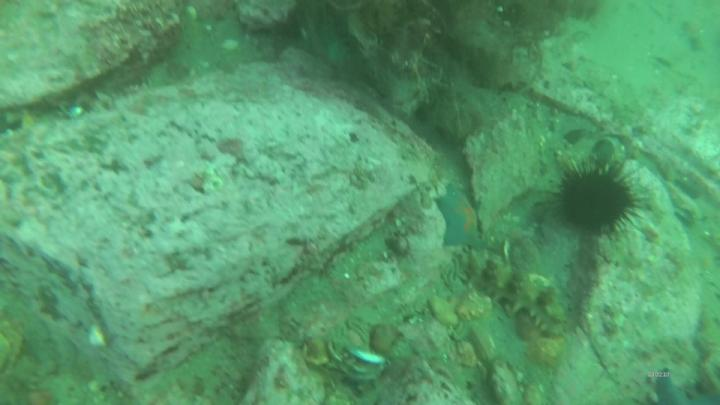echinus: (561, 173, 634, 233)
holothurian: (467, 257, 568, 333)
starfish: (437, 187, 483, 249)
